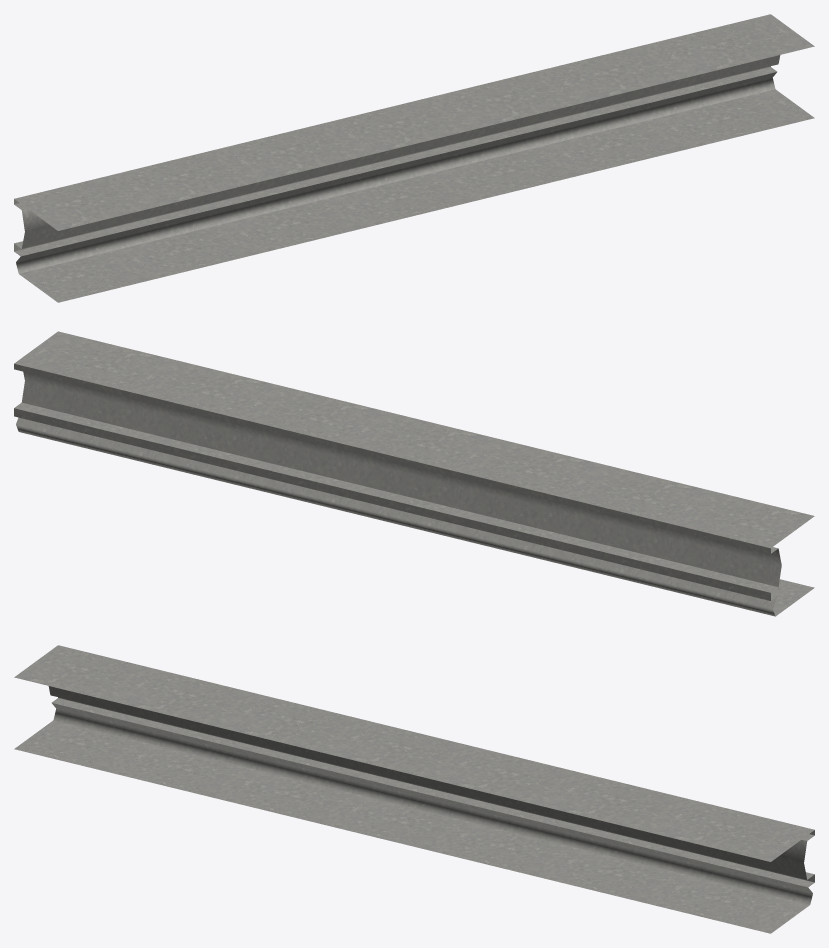
The model's file is GJ_Trim_01_01.fbx.
3 views of the same model, one above another, from view 1: azimuth 30°, elevation 25°; view 2: azimuth 150°, elevation 25°; view 3: azimuth 330°, elevation 25° (orthographic).
Visible parts, largest first — view 1: GJ_Trim_01_01; view 2: GJ_Trim_01_01; view 3: GJ_Trim_01_01.
Part boxes in pixels (bbox=[...]): GJ_Trim_01_01: bbox=[14, 14, 814, 302]; GJ_Trim_01_01: bbox=[14, 331, 814, 616]; GJ_Trim_01_01: bbox=[14, 645, 814, 933].
Size of the model in its own units: 600 by 54.31 by 60.61.
